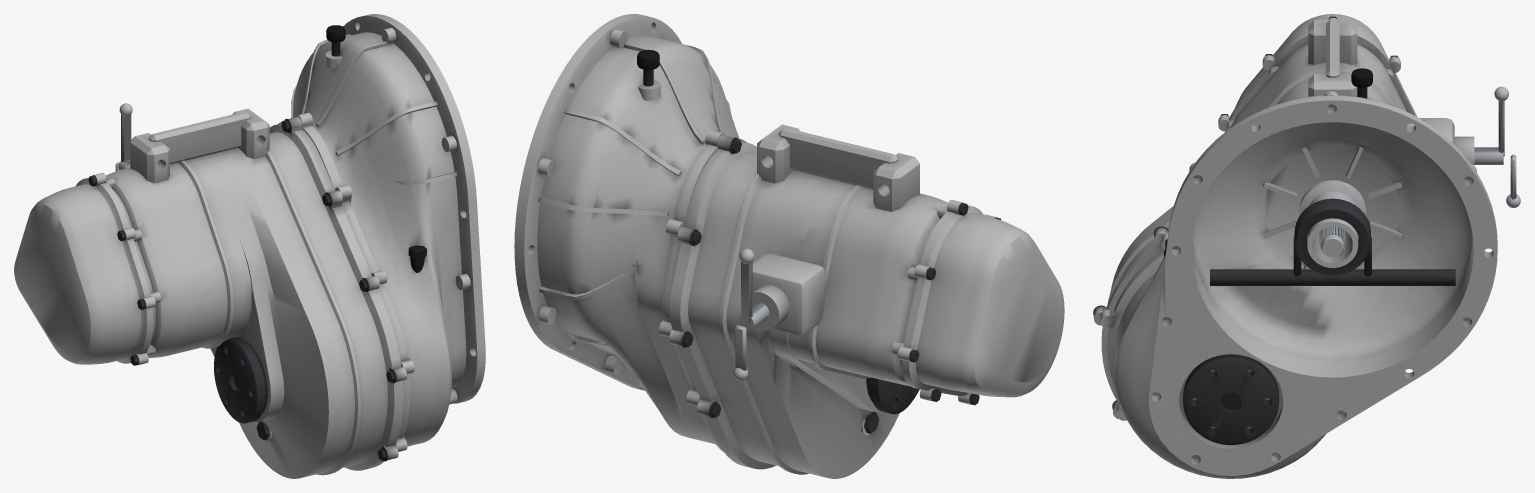
The model's file is gearbox-hi-v1.glb.
3 renders of one model, left to right at view 1: azimuth 30°, elevation 25°; view 2: azimuth 150°, elevation 25°; view 3: azimuth 270°, elevation 25°, orthographic. The views are drawn at different scales.
Parts seen in each view (by area): view 1: case_gear_geo, case_clutch_geo, end_cover_geo, flange_L_geo, selector_shaft_geo; view 2: case_gear_geo, case_clutch_geo, end_cover_geo, selector_shaft_geo, flange_L_geo, breather_geo; view 3: case_clutch_geo, case_gear_geo, release_bearing_geo, flange_R_geo, end_cover_geo, selector_shaft_geo, input_shaft, breather_geo.
Boxes of the visible parts, <box> form: case_gear_geo: <box>106,108,406,478</box>; case_clutch_geo: <box>278,14,485,451</box>; end_cover_geo: <box>14,172,155,365</box>; flange_L_geo: <box>214,337,267,423</box>; selector_shaft_geo: <box>115,103,132,171</box>; case_gear_geo: <box>669,124,947,478</box>; case_clutch_geo: <box>514,14,746,452</box>; end_cover_geo: <box>897,199,1064,405</box>; selector_shaft_geo: <box>733,248,769,380</box>; flange_L_geo: <box>866,377,919,414</box>; breather_geo: <box>637,49,659,86</box>; case_clutch_geo: <box>1100,91,1497,478</box>; case_gear_geo: <box>1093,20,1474,418</box>; release_bearing_geo: <box>1210,180,1455,285</box>; flange_R_geo: <box>1183,354,1279,444</box>; end_cover_geo: <box>1218,14,1417,131</box>; selector_shaft_geo: <box>1474,86,1520,207</box>; input_shaft: <box>1319,226,1345,257</box>; breather_geo: <box>1351,68,1372,98</box>.
Size of the model in its own units: 0.47 by 0.4701 by 0.4355.
11 materials, 1 textured.
